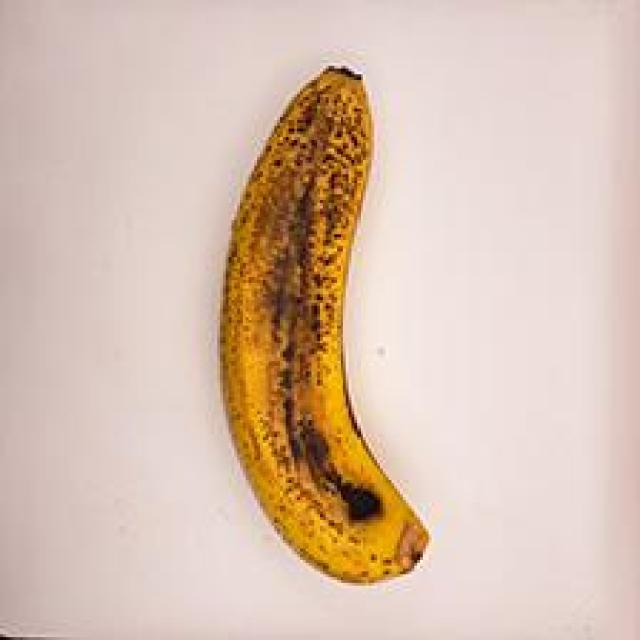Overripe: (188, 40, 461, 612)
